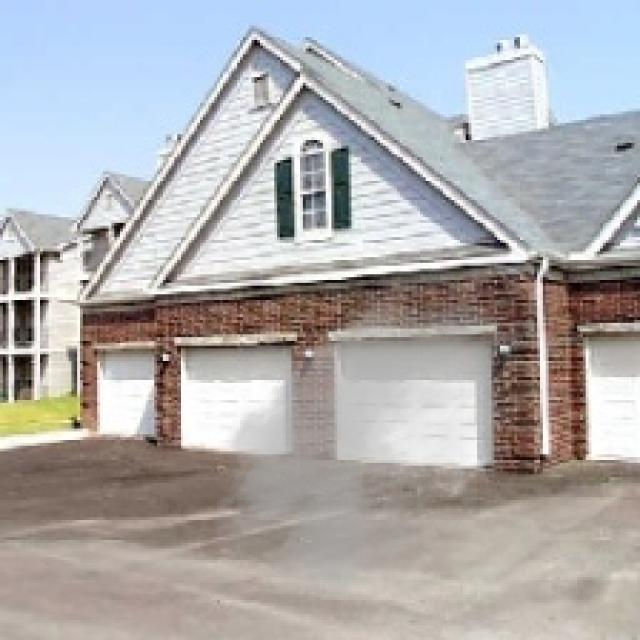Smoke: (200, 255, 569, 620)
